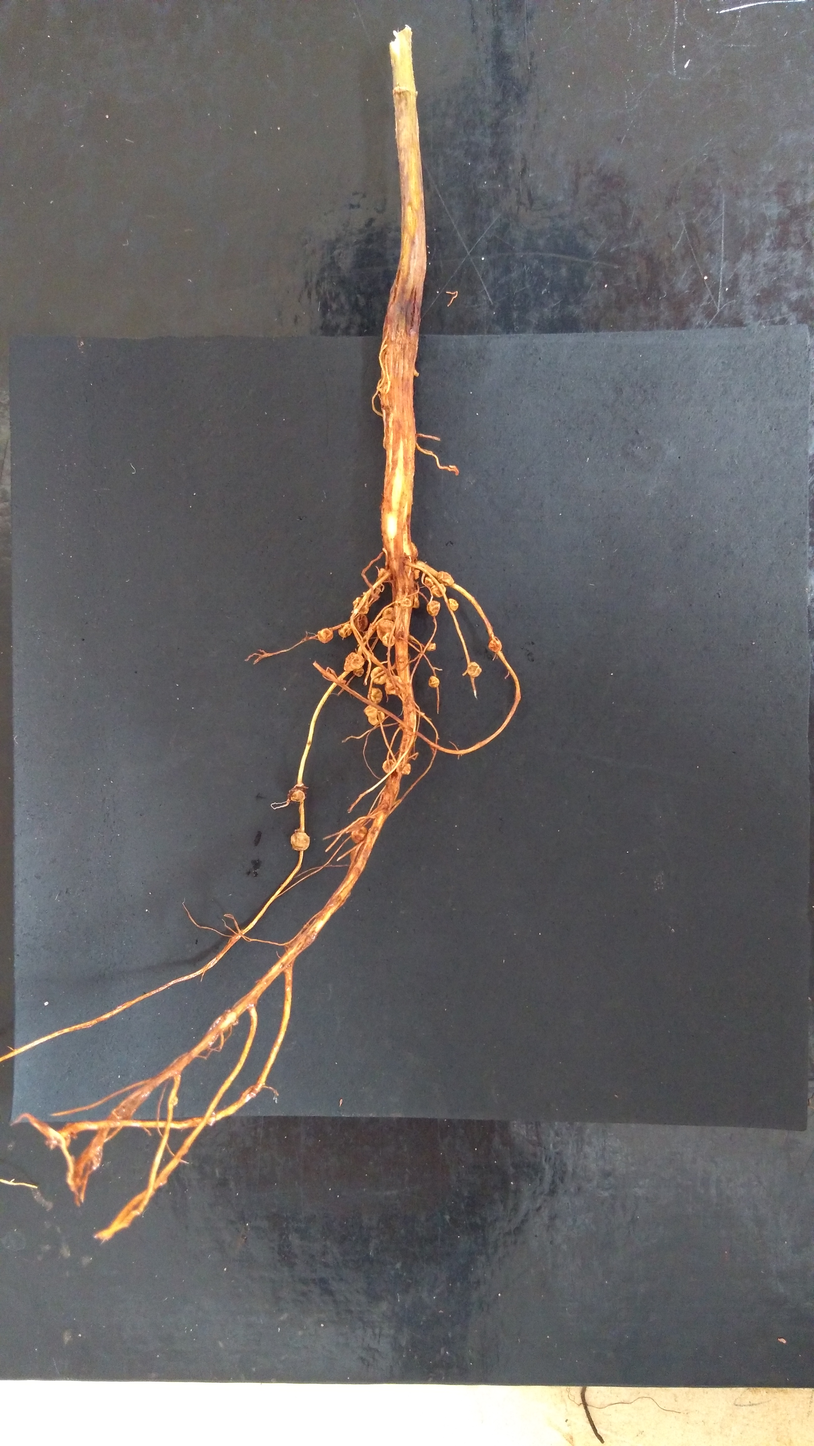nodule: (376, 619, 397, 648), (363, 703, 385, 726), (342, 652, 365, 672), (385, 675, 404, 696), (370, 666, 390, 685), (290, 832, 310, 851), (351, 824, 368, 844), (352, 596, 369, 615), (353, 612, 369, 632), (316, 628, 334, 644), (367, 686, 383, 704), (437, 571, 454, 587), (466, 661, 482, 677), (426, 600, 441, 617), (395, 760, 412, 775), (431, 583, 447, 598), (381, 606, 396, 622), (382, 759, 397, 775), (377, 567, 391, 583), (381, 631, 395, 647), (289, 789, 306, 802), (488, 637, 502, 652), (338, 623, 352, 637), (404, 558, 413, 579), (412, 588, 420, 609), (448, 597, 459, 612), (352, 665, 365, 677), (428, 675, 440, 688), (398, 597, 412, 608), (424, 575, 436, 587), (410, 541, 418, 558), (425, 642, 437, 652), (413, 567, 420, 581), (171, 1096, 179, 1107), (398, 722, 406, 730), (413, 369, 419, 377), (404, 587, 410, 593)
